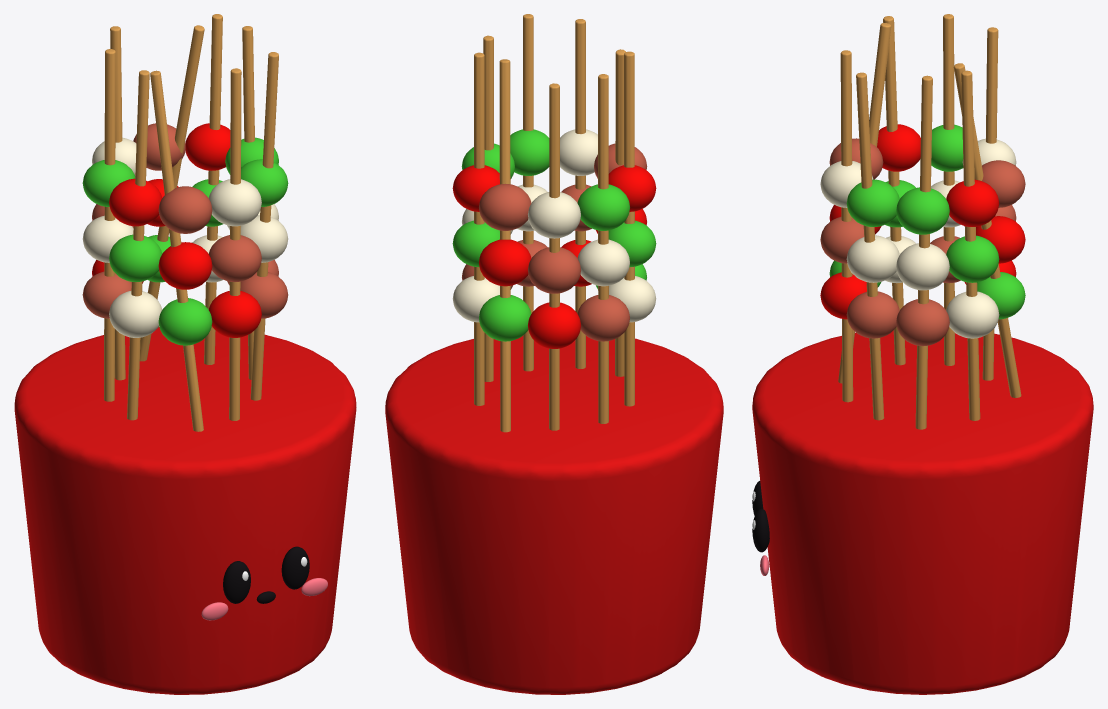
The model's file is Skewers.glb.
3 renders of one model, left to right at view 1: azimuth 30°, elevation 25°; view 2: azimuth 150°, elevation 25°; view 3: azimuth 270°, elevation 25°, orthographic.
Visible parts, largest first — view 1: Cone, Cylinder.006, Cylinder.005, Cylinder.007, Cylinder.008, Cylinder.004, Cylinder.001, Cylinder.002, Sphere.020, Sphere.019, Sphere.018, Sphere.023 (+19 smaller); view 2: Cone, Cylinder.002, Cylinder.003, Cylinder.004, Cylinder.005, Cylinder.001, Cylinder.008, Cylinder.007, Sphere.007, Sphere.008, Sphere.009, Sphere.010 (+16 smaller); view 3: Cone, Cylinder.001, Cylinder, Cylinder.008, Cylinder.007, Cylinder.004, Cylinder.005, Sphere, Sphere.001, Sphere.002, Sphere.003, Sphere.024 (+18 smaller).
Part boxes in pixels (x1,y1,x2,y2): Cone: [14, 327, 356, 694]; Cylinder.006: [150, 70, 203, 431]; Cylinder.005: [127, 70, 149, 420]; Cylinder.007: [229, 68, 241, 420]; Cylinder.008: [250, 52, 278, 400]; Cylinder.004: [104, 49, 115, 401]; Cylinder.001: [204, 14, 222, 364]; Cylinder.002: [139, 25, 204, 361]; Sphere.020: [158, 186, 212, 233]; Sphere.019: [158, 242, 212, 289]; Sphere.018: [158, 298, 212, 345]; Sphere.023: [208, 179, 261, 226]; Cone: [385, 335, 723, 694]; Cylinder.002: [499, 59, 510, 432]; Cylinder.003: [549, 83, 559, 430]; Cylinder.004: [598, 74, 608, 423]; Cylinder.005: [624, 51, 634, 406]; Cylinder.001: [474, 52, 484, 405]; Cylinder.008: [523, 14, 533, 371]; Cylinder.007: [575, 19, 585, 368]; Sphere.007: [479, 239, 531, 286]; Sphere.008: [479, 184, 531, 230]; Sphere.009: [528, 302, 580, 348]; Sphere.010: [528, 247, 580, 293]; Cone: [752, 330, 1093, 694]; Cylinder.001: [961, 70, 980, 420]; Cylinder: [915, 75, 932, 429]; Cylinder.008: [856, 72, 884, 420]; Cylinder.007: [840, 50, 853, 402]; Cylinder.004: [943, 14, 954, 365]; Cylinder.005: [883, 16, 905, 365]; Sphere: [896, 299, 949, 346]; Sphere.001: [896, 243, 949, 290]; Sphere.002: [896, 187, 949, 234]; Sphere.003: [946, 291, 999, 338]; Sphere.024: [846, 291, 899, 338].
Bounding box in the file's own units: 0.888 × 1.7 × 0.888.
